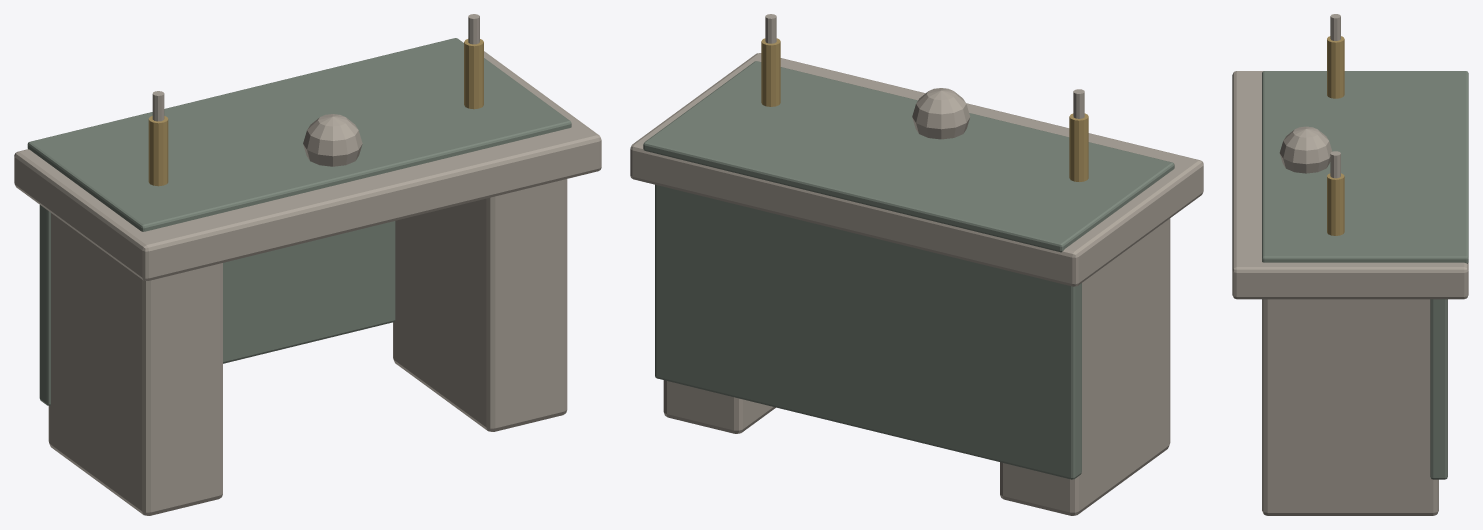
3 views of the same model, side by side, from view 1: azimuth 30°, elevation 25°; view 2: azimuth 150°, elevation 25°; view 3: azimuth 270°, elevation 25° (orthographic). The views are drawn at different scales.
Parts seen in each view (by area): view 1: chapelAltar; view 2: chapelAltar; view 3: chapelAltar.
Boxes of the visible parts, x1,y1,x2,y2 form: chapelAltar: (14,14,601,515); chapelAltar: (630,14,1203,515); chapelAltar: (1232,14,1468,515).
Bounding box in the file's own units: 1.6 × 1.27 × 0.8.
